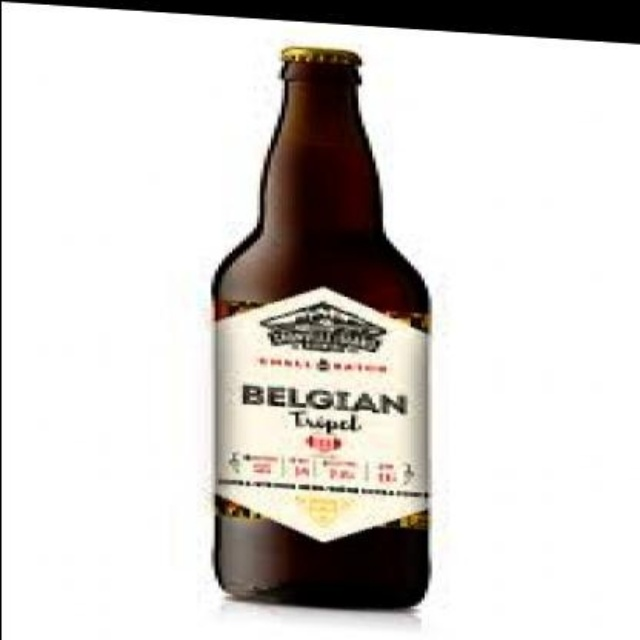trash: (214, 48, 428, 606)
